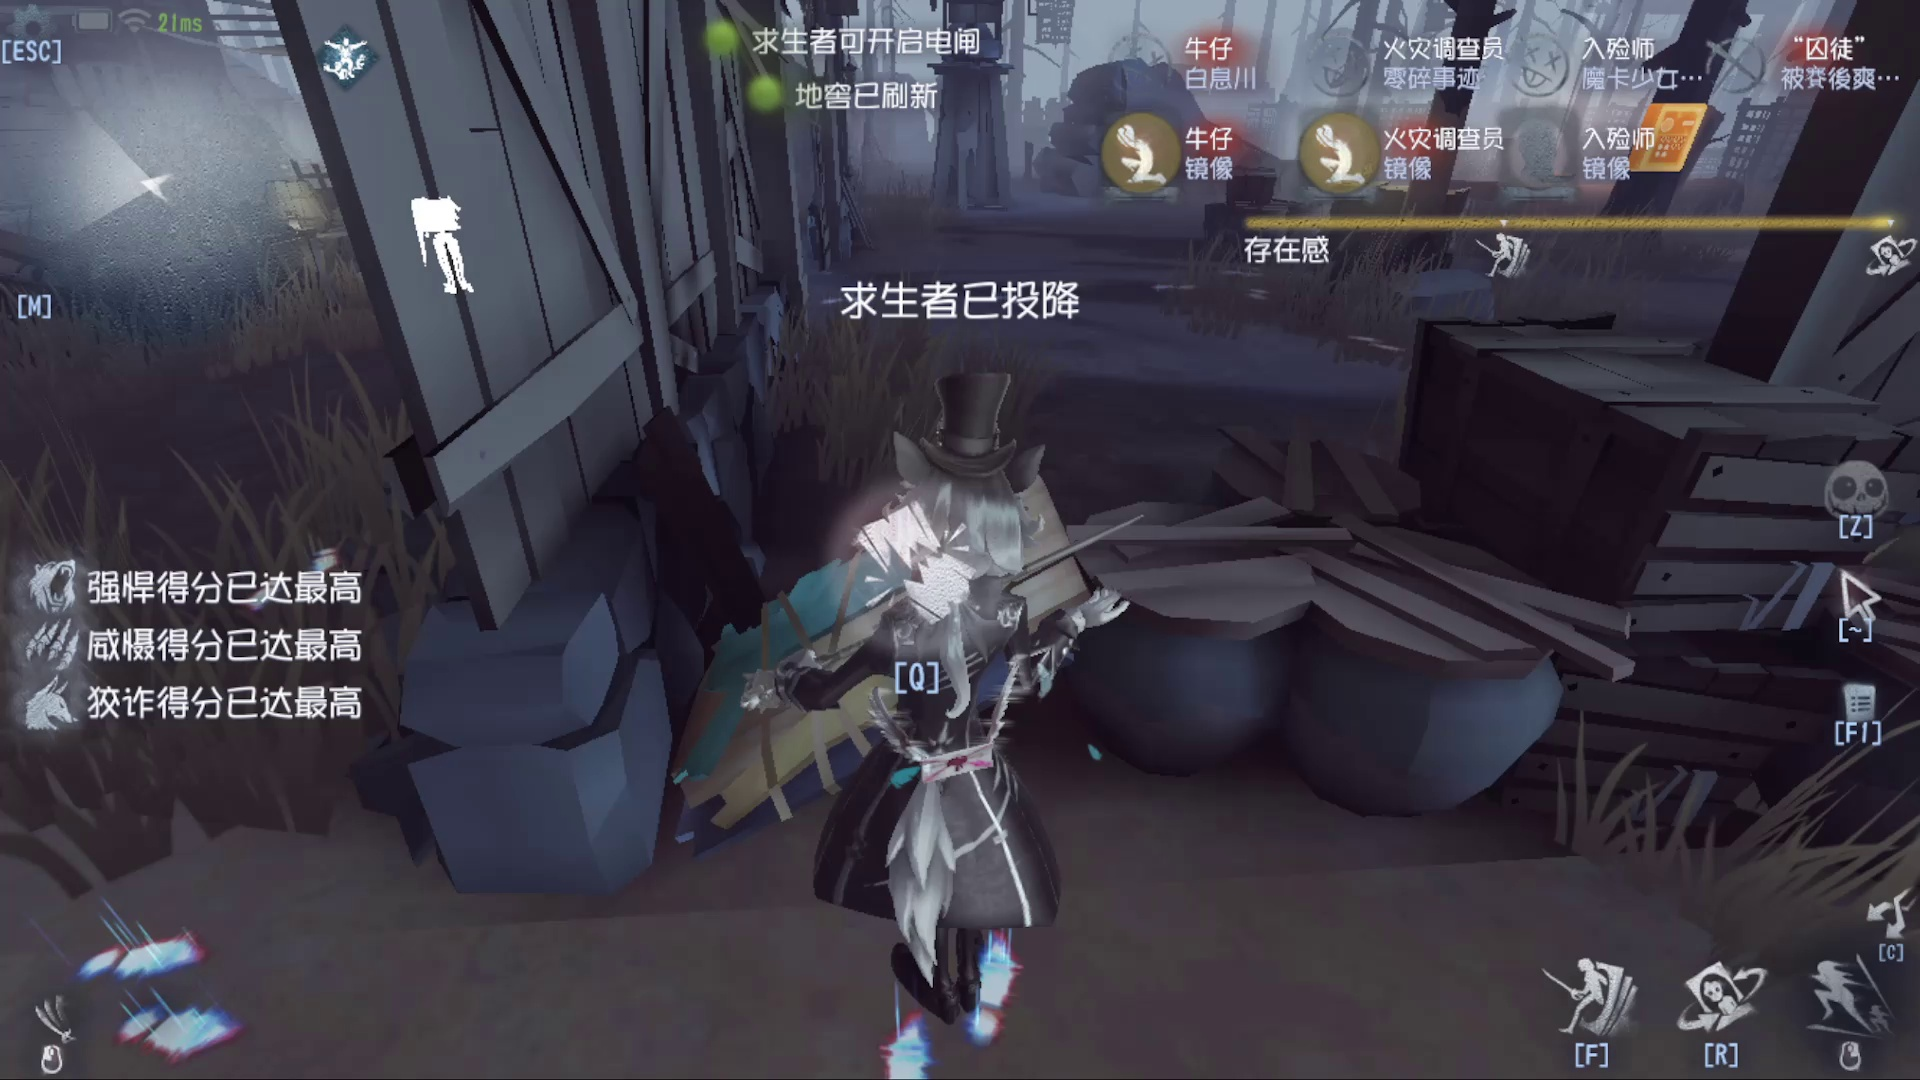木板: (642, 522, 1138, 783)
